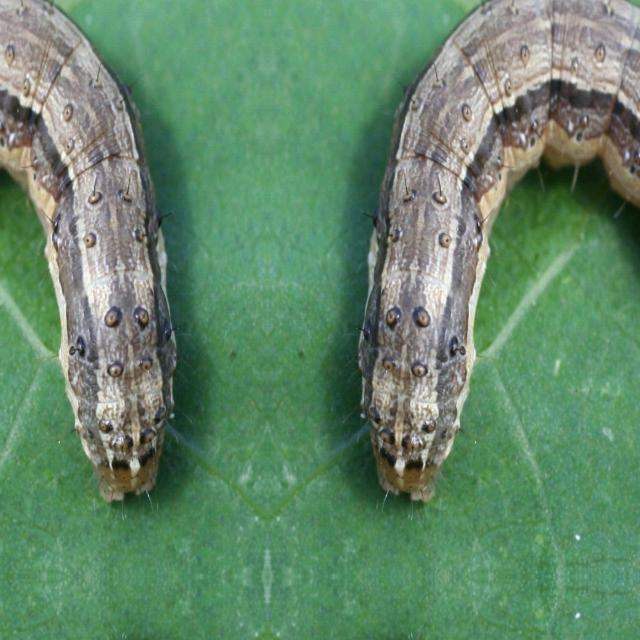armyworm: (353, 0, 639, 504), (0, 0, 180, 504)
